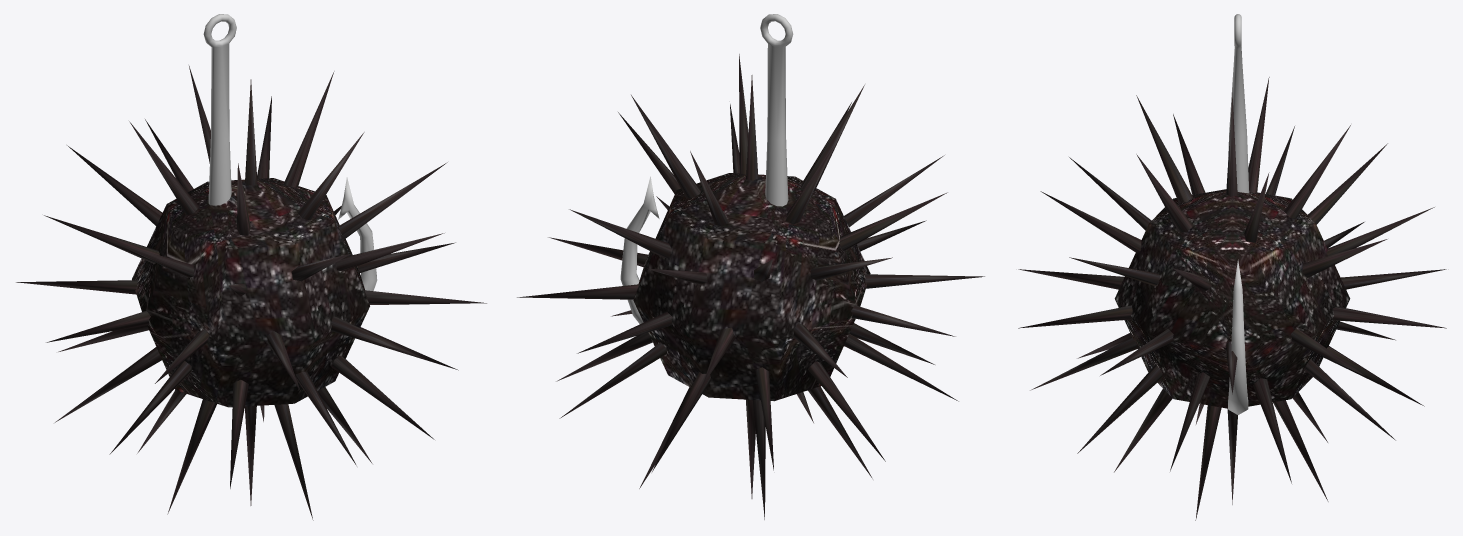
File: Bait_SeaUrchin.fbx
3 renders of one model, left to right at view 1: azimuth 30°, elevation 25°; view 2: azimuth 150°, elevation 25°; view 3: azimuth 270°, elevation 25°, orthographic. The views are drawn at different scales.
Parts seen in each view (by area): view 1: Bait_SeaUrchin; view 2: Bait_SeaUrchin; view 3: Bait_SeaUrchin.
Part boxes in pixels (left/top/right/bottom): Bait_SeaUrchin: left=16, top=14, right=486, bottom=520; Bait_SeaUrchin: left=517, top=14, right=984, bottom=519; Bait_SeaUrchin: left=1018, top=14, right=1446, bottom=520.
Size of the model in its own units: 0.5043 by 0.5836 by 0.4796.
